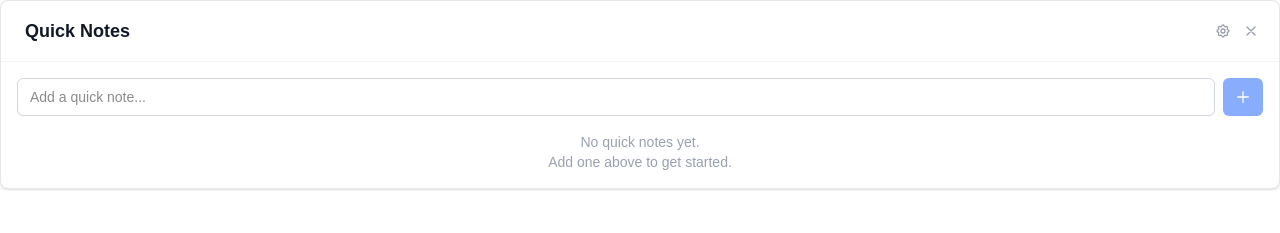
Test: QuickNotesWidget › note creation › should add a new note when user types and presses enter
This screenshot has width=1280, height=233.
Type "New quick note" into the field with placeholder "Add a quick note...".
click(616, 97); type("New quick note")  # box [17,78,1215,116]
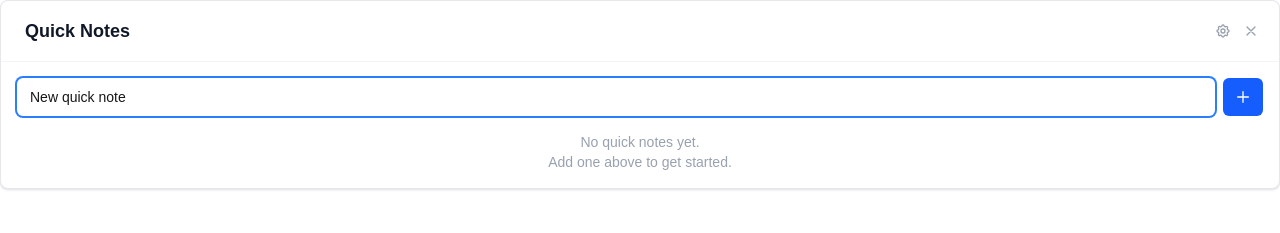
Press Enter
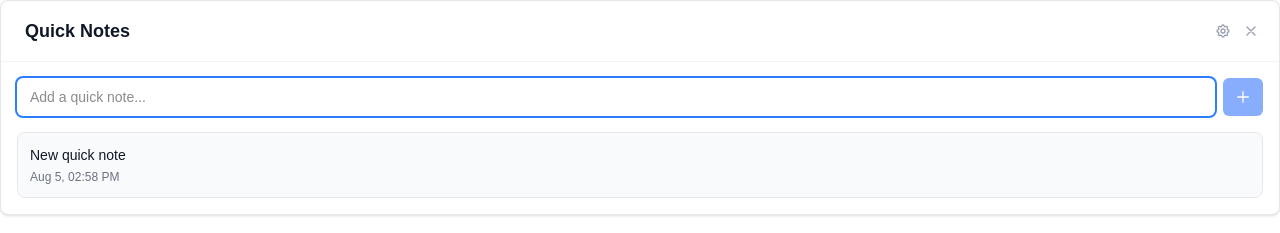
Result: the text "New quick note" is shown at [30,147,126,163]
